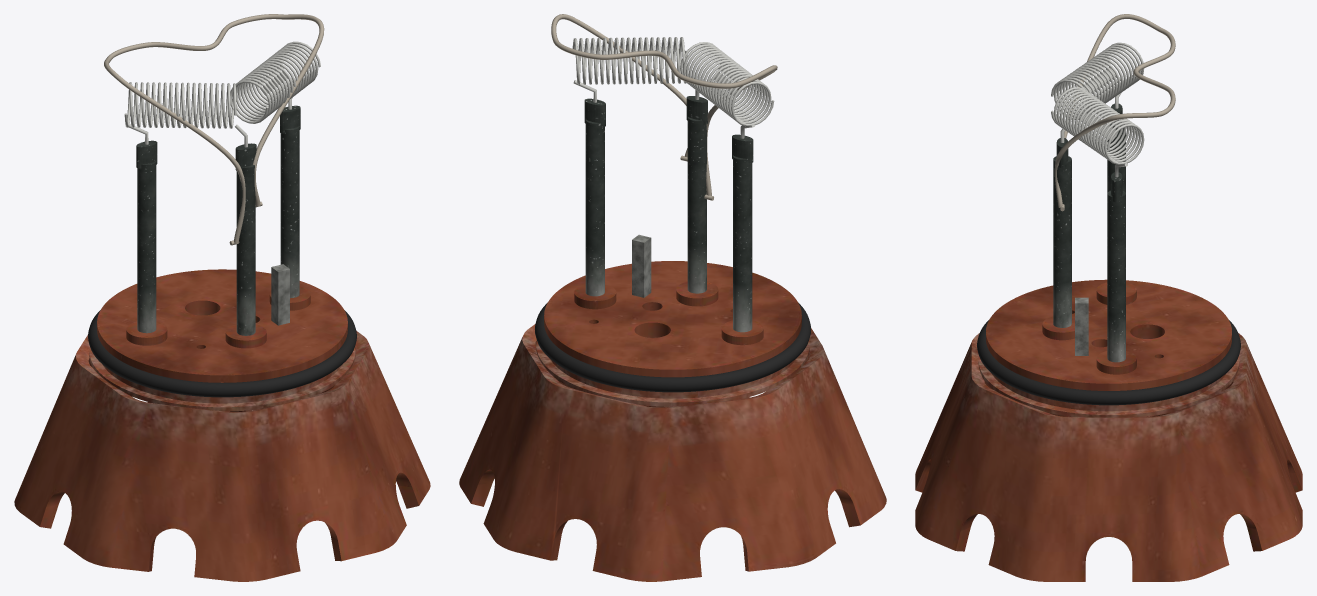
The picture shows the model from 3 angles, left to right: view 1: azimuth 30°, elevation 25°; view 2: azimuth 150°, elevation 25°; view 3: azimuth 270°, elevation 25°; orthographic projection. The views are drawn at different scales.
Parts seen in each view (by area): view 1: DeNhua, TruDan, Gioang, SoiToc_1, SoiToc_0, DayDo, CocNgan; view 2: DeNhua, TruDan, Gioang, SoiToc_0, SoiToc_1, DayDo, CocNgan; view 3: DeNhua, TruDan, Gioang, SoiToc_1, SoiToc_0, DayDo, CocNgan.
Boxes of the visible parts, left/top/right/bottom form: DeNhua: left=14, top=269, right=430, bottom=581; TruDan: left=136, top=105, right=300, bottom=335; Gioang: left=88, top=310, right=356, bottom=397; SoiToc_1: left=230, top=41, right=320, bottom=123; SoiToc_0: left=124, top=82, right=236, bottom=128; DayDo: left=104, top=14, right=324, bottom=243; CocNgan: left=271, top=264, right=289, bottom=325; DeNhua: left=459, top=261, right=886, bottom=581; TruDan: left=584, top=96, right=753, bottom=332; Gioang: left=535, top=302, right=810, bottom=392; SoiToc_0: left=680, top=42, right=774, bottom=126; SoiToc_1: left=572, top=37, right=687, bottom=84; DayDo: left=551, top=14, right=777, bottom=195; CocNgan: left=632, top=234, right=651, bottom=297; DeNhua: left=915, top=279, right=1302, bottom=581; TruDan: left=1053, top=103, right=1125, bottom=362; Gioang: left=977, top=320, right=1240, bottom=405; SoiToc_1: left=1051, top=87, right=1144, bottom=164; SoiToc_0: left=1051, top=42, right=1144, bottom=120; DayDo: left=1054, top=14, right=1175, bottom=207; CocNgan: left=1075, top=297, right=1088, bottom=355.
Bounding box in the file's own units: 0.12 × 0.1508 × 0.12.
6 materials, 3 textured.
